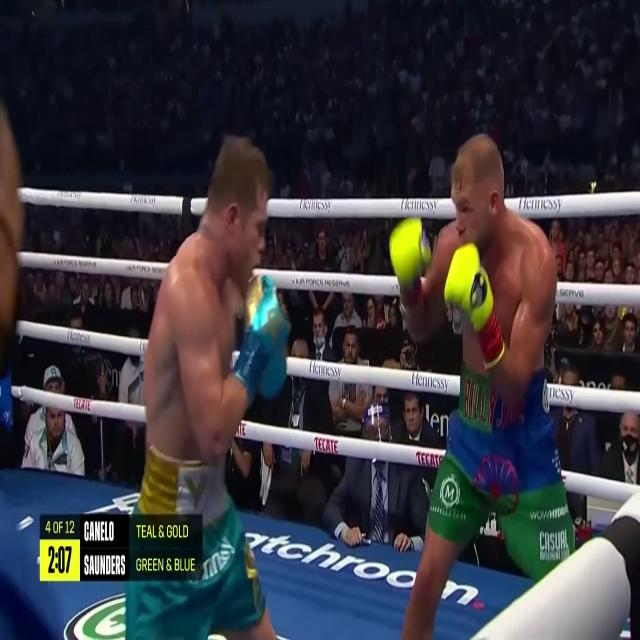boxer_1: (402, 133, 558, 407)
boxer_2: (144, 135, 271, 464)
gloves_1: (445, 242, 506, 368), (390, 217, 432, 288)
gloves_2: (235, 275, 290, 399)
